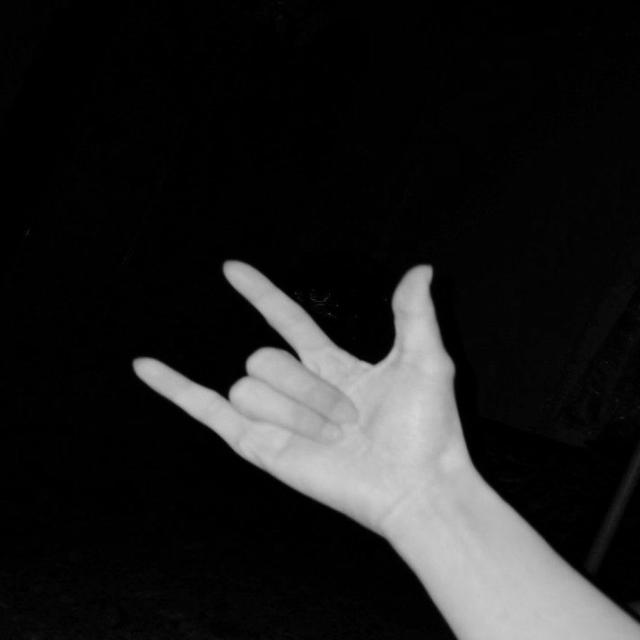i love you: (123, 252, 504, 542)
